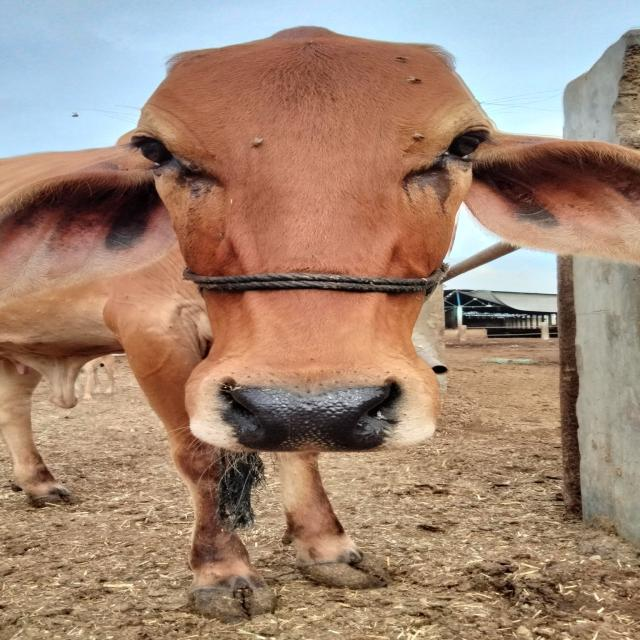muzzles: (206, 374, 415, 456)
